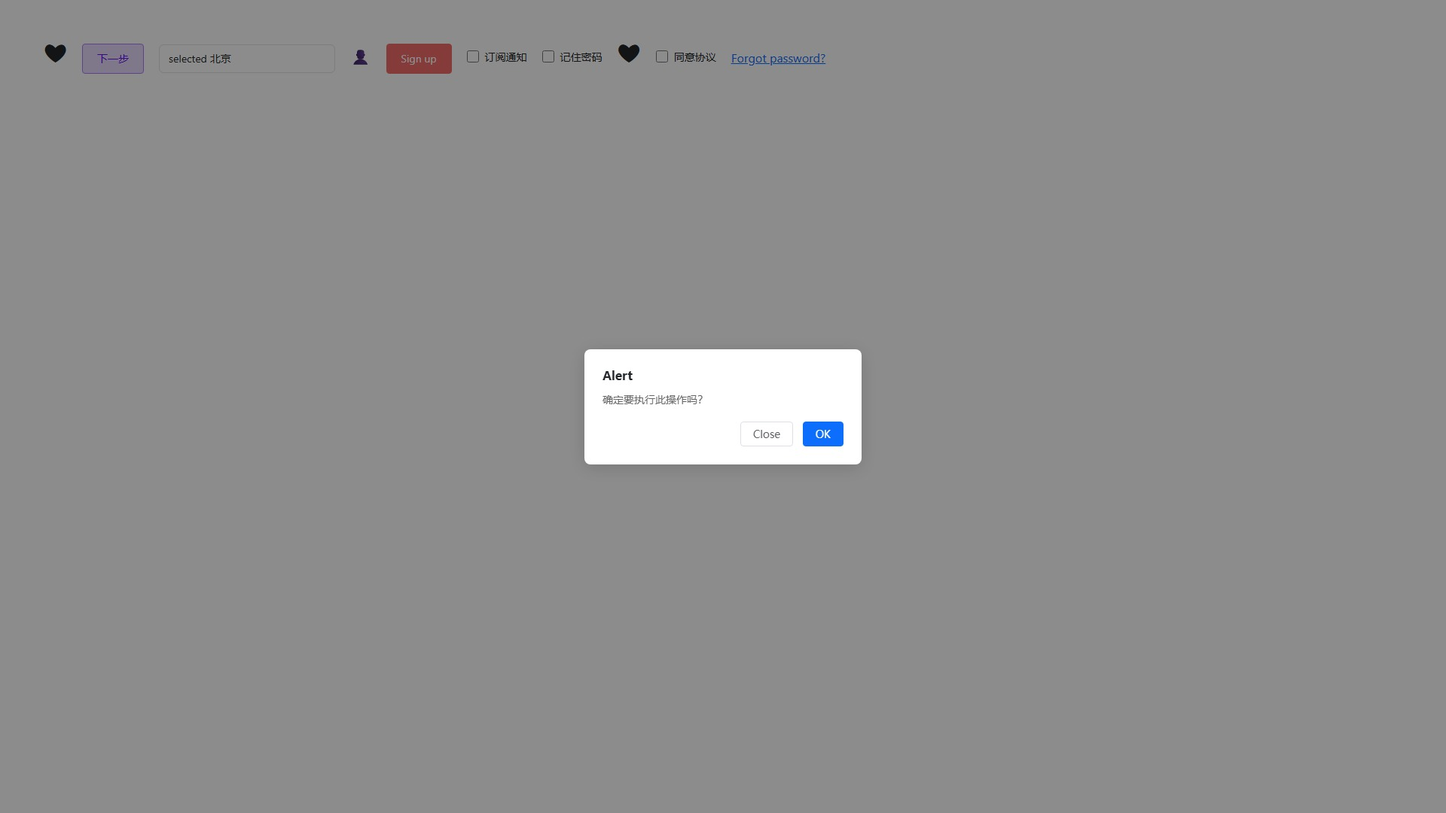button: (386, 44, 452, 74), (82, 44, 144, 74), (740, 421, 793, 446), (803, 421, 844, 446)
checkbox: (467, 50, 479, 62), (542, 50, 554, 62), (656, 50, 668, 62)
icon: (485, 49, 527, 64), (560, 49, 602, 64), (674, 49, 716, 64), (617, 41, 641, 65), (44, 41, 67, 65), (350, 49, 371, 64)
link: (731, 50, 826, 65)
modal: (0, 0, 1446, 813)
radio: (467, 49, 527, 64), (542, 49, 602, 64), (656, 49, 716, 64)
select: (159, 44, 335, 73)
